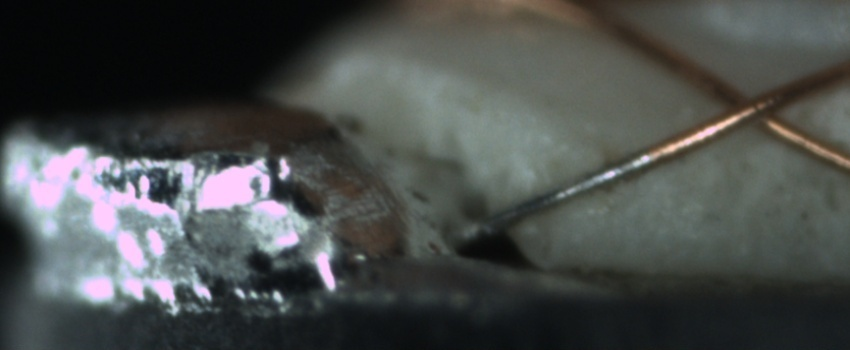CL: (695, 68, 803, 141)
TS: (470, 149, 655, 238)
TTCW: (485, 121, 724, 232)
